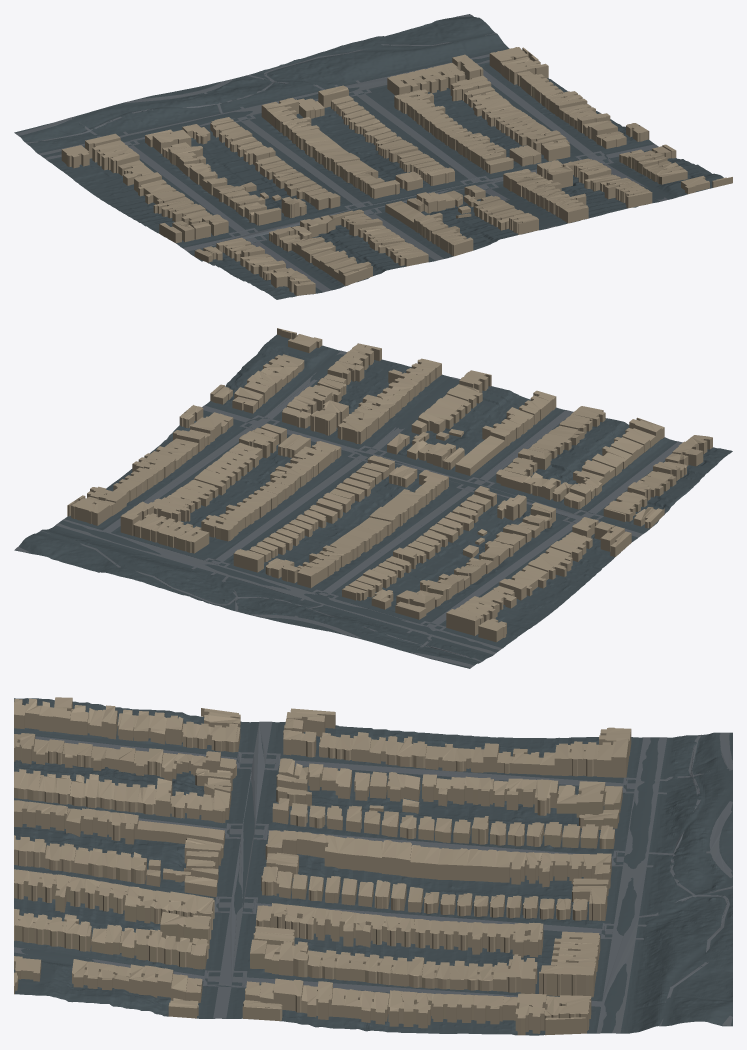
Rendered from epsg26910-1418-10887.lod0.glb.
The picture shows the model from 3 angles, top to bottom: view 1: azimuth 30°, elevation 25°; view 2: azimuth 150°, elevation 25°; view 3: azimuth 270°, elevation 25°; orthographic projection. The views are drawn at different scales.
Visible parts, largest first — view 1: epsg26910-1418-10887-lod0; view 2: epsg26910-1418-10887-lod0; view 3: epsg26910-1418-10887-lod0.
Part boxes in pixels (left/top/right/bottom): epsg26910-1418-10887-lod0: left=14, top=14, right=732, bottom=299; epsg26910-1418-10887-lod0: left=14, top=328, right=732, bottom=668; epsg26910-1418-10887-lod0: left=14, top=697, right=732, bottom=1035.
Bounding box in the file's own units: 384 × 37.76 × 384.
